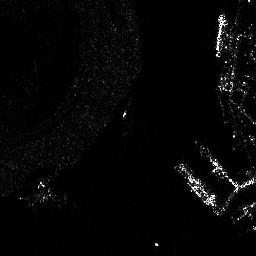ship: (176, 164, 220, 209), (214, 11, 227, 57)
